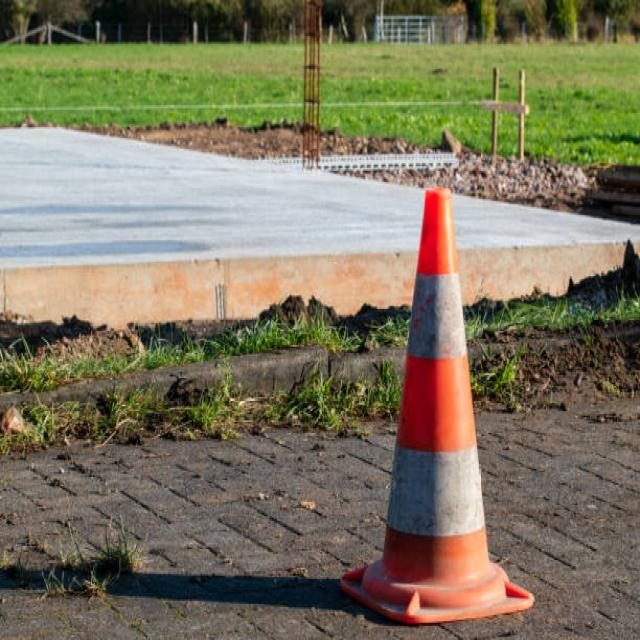Traffic Cone: (331, 151, 556, 640)
